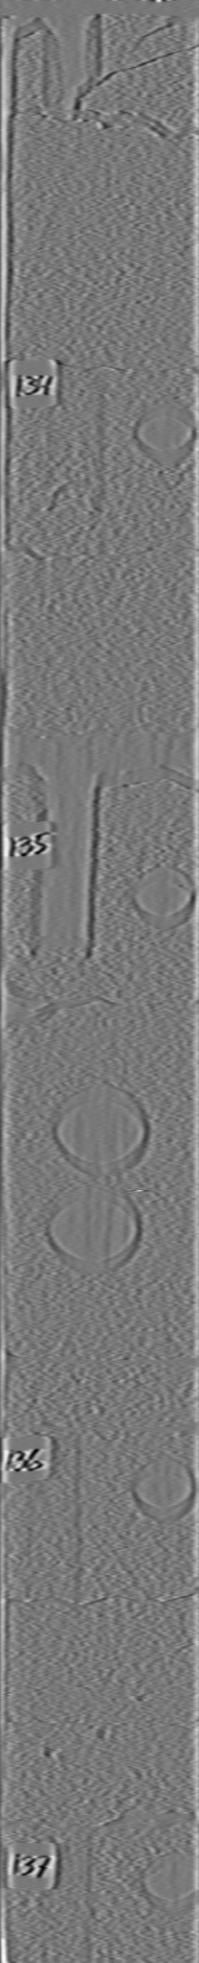hplug: (114, 1448, 199, 1527), (121, 856, 199, 935), (126, 391, 199, 469), (128, 1843, 199, 1920)
scal: (40, 1075, 161, 1184), (33, 1186, 155, 1279)
vplug: (18, 1418, 98, 1612), (24, 776, 104, 964), (36, 351, 116, 525), (20, 1817, 105, 1963), (30, 4, 114, 125)
